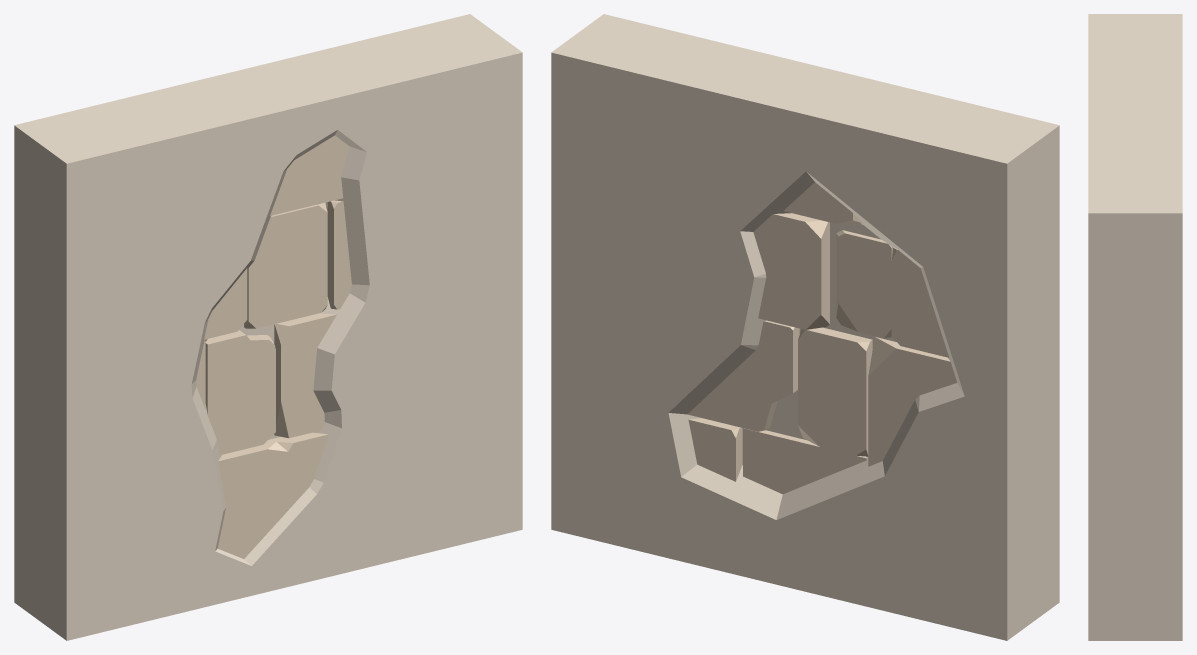
Rendered from Wall_Ruined_Full_1.glb.
3 renders of one model, left to right at view 1: azimuth 30°, elevation 25°; view 2: azimuth 150°, elevation 25°; view 3: azimuth 270°, elevation 25°, orthographic. The views are drawn at different scales.
Parts seen in each view (by area): view 1: Wall_Ruined_Full_1; view 2: Wall_Ruined_Full_1; view 3: Wall_Ruined_Full_1.
Boxes of the visible parts, x1,y1,x2,y2 form: Wall_Ruined_Full_1: (14, 14, 522, 640); Wall_Ruined_Full_1: (551, 14, 1059, 640); Wall_Ruined_Full_1: (1088, 14, 1182, 640).
Bounding box in the file's own units: 1 × 1 × 0.2.
